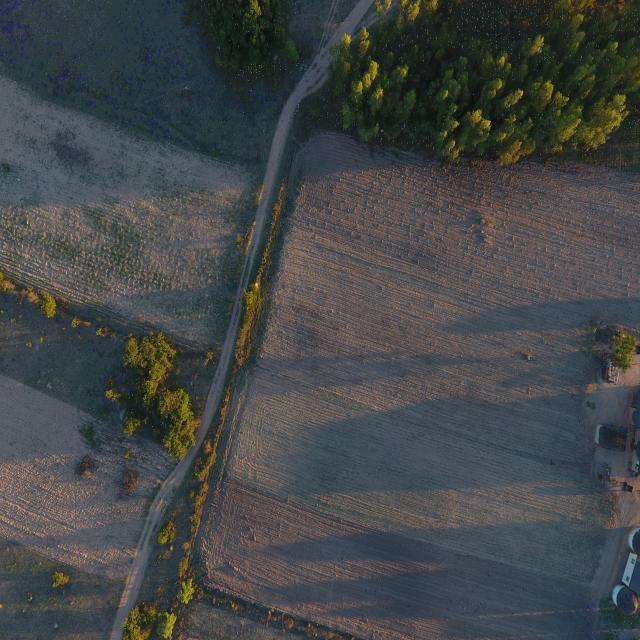boundaries: (172, 147, 319, 565)
